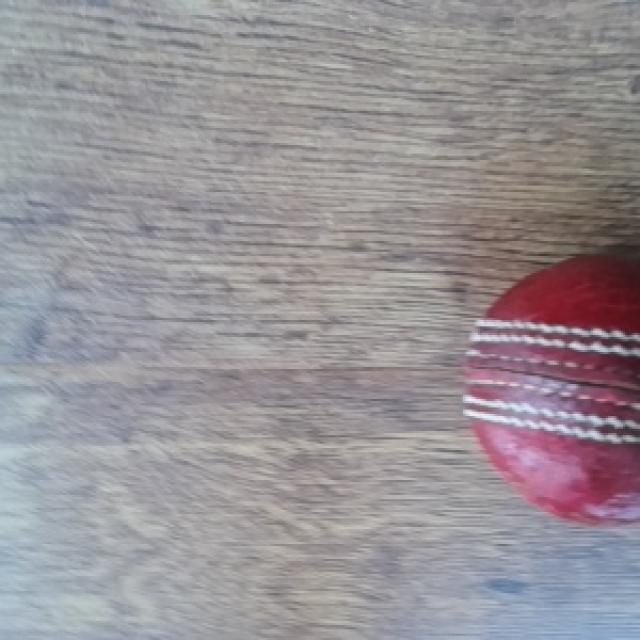ball: (459, 256, 638, 521)
